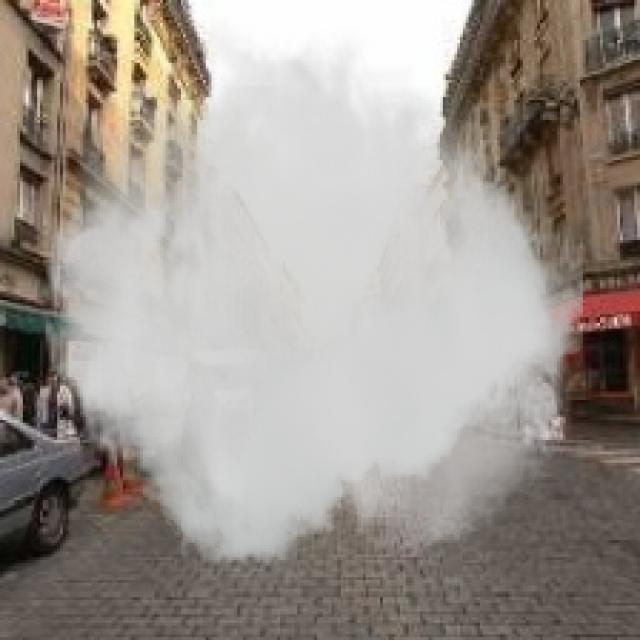Smoke: (37, 17, 583, 563)
